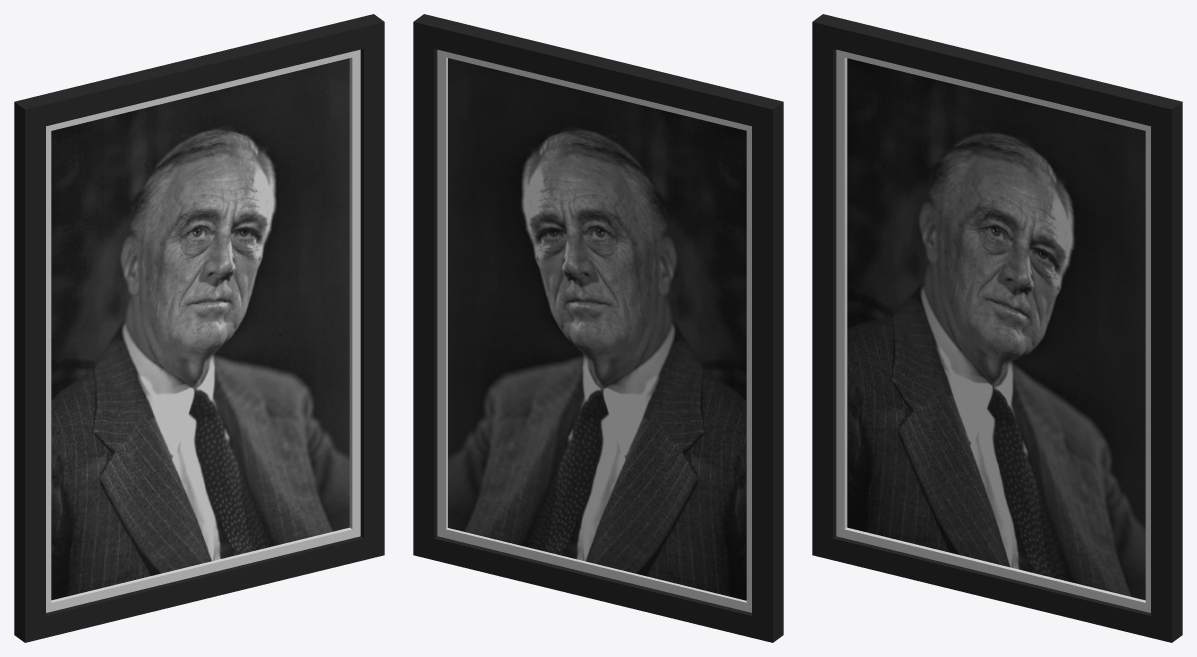
Rendered from potrait_rosevet.fbx.
3 views of the same model, side by side, from view 1: azimuth 30°, elevation 25°; view 2: azimuth 150°, elevation 25°; view 3: azimuth 330°, elevation 25° (orthographic).
Visible parts, largest first — view 1: rovet potrait; view 2: rovet potrait; view 3: rovet potrait.
Boxes of the visible parts, x1,y1,x2,y2 form: rovet potrait: [14, 14, 384, 642]; rovet potrait: [413, 14, 783, 642]; rovet potrait: [812, 14, 1182, 642].
Bounding box in the file's own units: 58.45 × 82.83 × 3.04.
3 materials, 1 textured.
